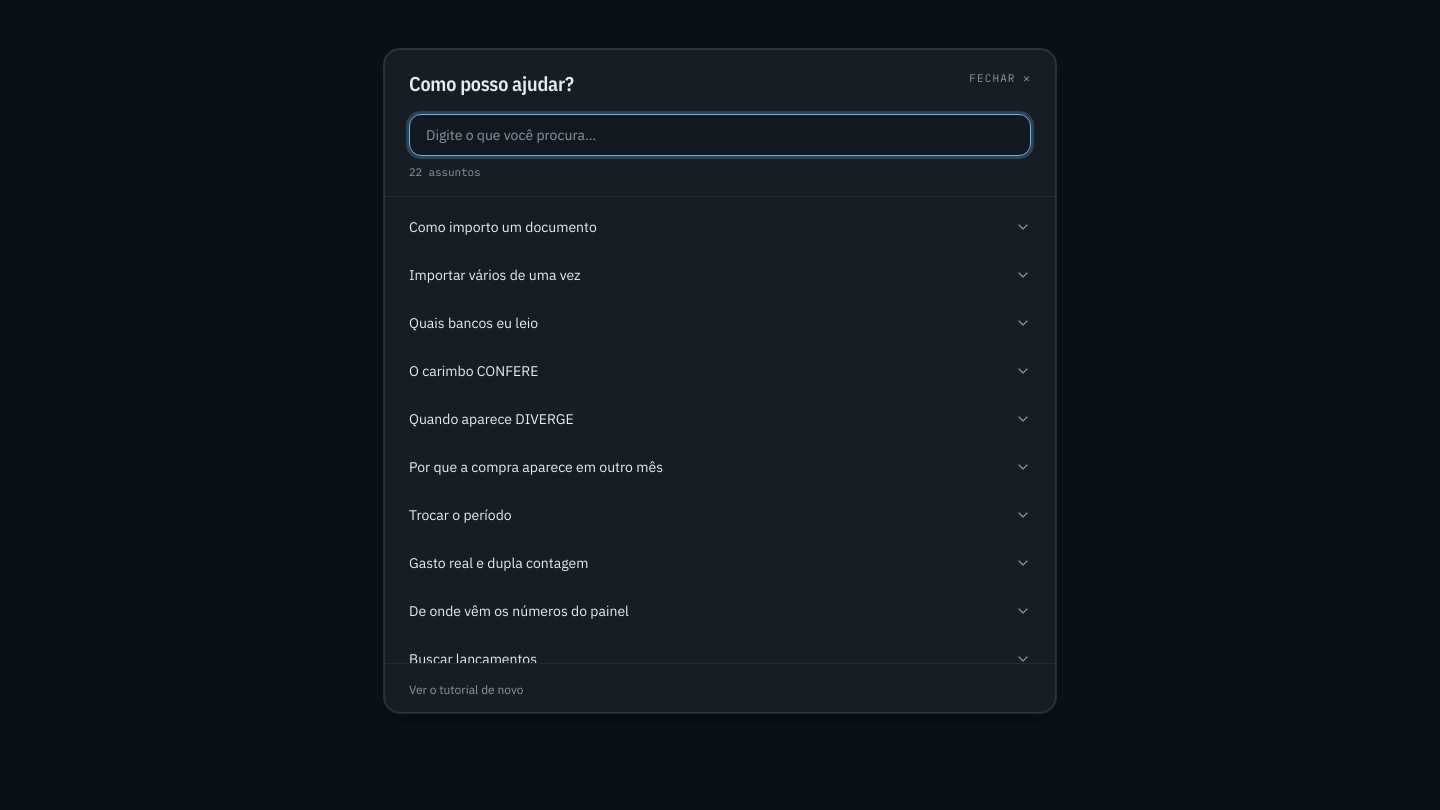
Ajuda › acha por pedaço de palavra
In the search field: x=720, y=135 [409,114,1031,156], type "recorr"
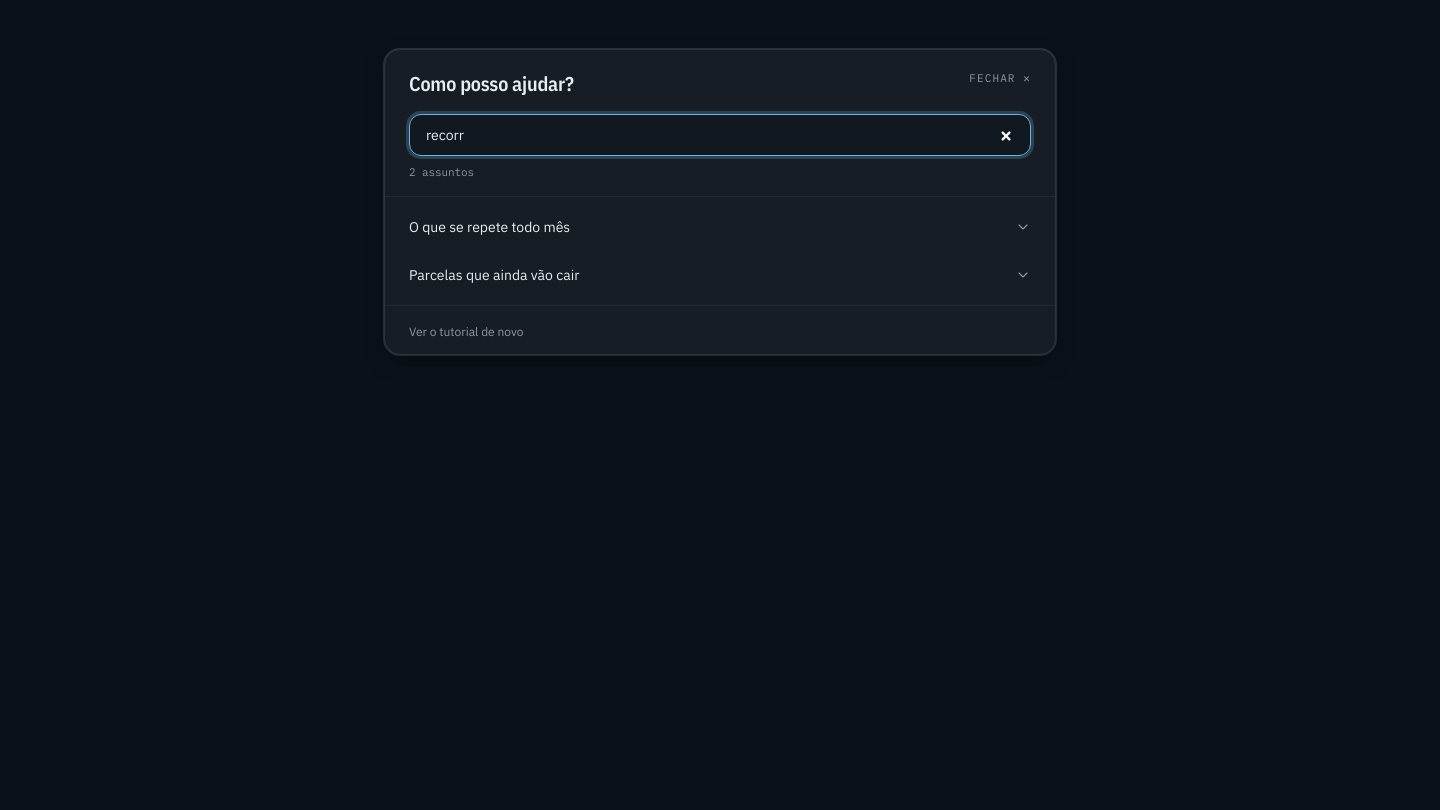
Expected: the text "O que se repete todo mês" is shown, [409,217,570,237]
